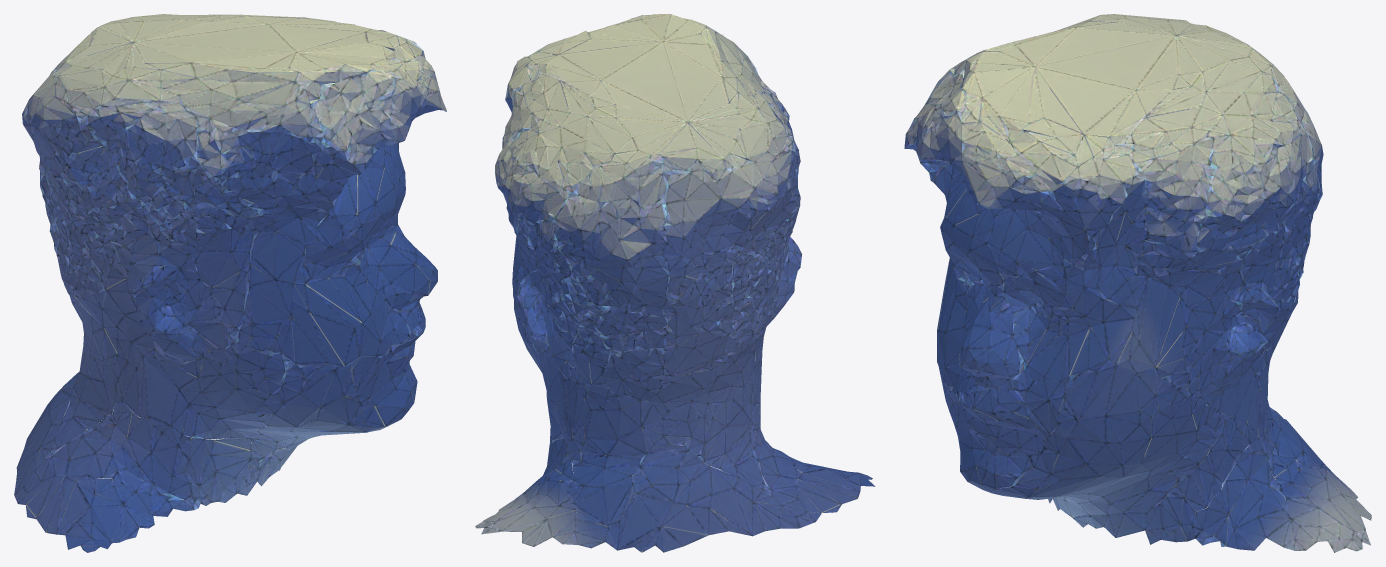
Rendered from head.glb.
3 renders of one model, left to right at view 1: azimuth 30°, elevation 25°; view 2: azimuth 150°, elevation 25°; view 3: azimuth 270°, elevation 25°, orthographic. The views are drawn at different scales.
Parts seen in each view (by area): view 1: Mesh_0; view 2: Mesh_0; view 3: Mesh_0.
Boxes of the visible parts, box(x1,y1,x2,y2) form: Mesh_0: box(14, 14, 446, 552); Mesh_0: box(475, 14, 875, 552); Mesh_0: box(904, 14, 1371, 552).
Bounding box in the file's own units: 0.1698 × 0.1912 × 0.1746.
Materials: 1 (1 with a texture image).
